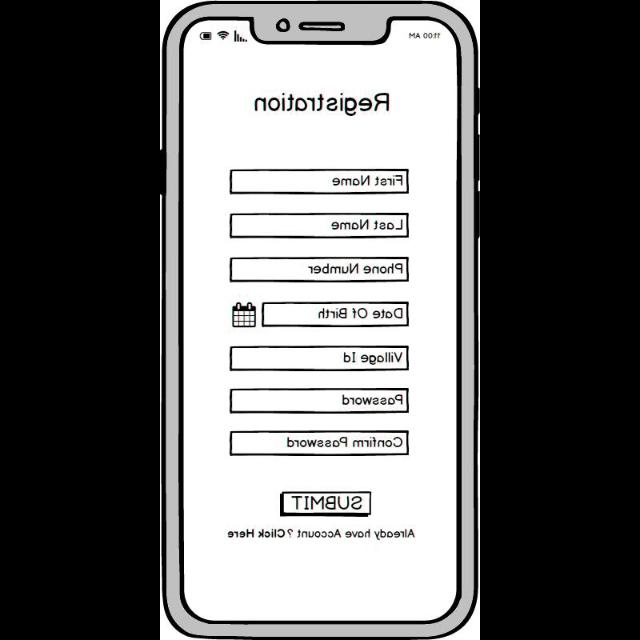icon: (232, 302, 256, 328)
input: (229, 169, 409, 195), (229, 213, 409, 239), (229, 257, 409, 283), (229, 388, 409, 414), (229, 430, 409, 456), (230, 346, 408, 372), (261, 302, 409, 328)
text: (253, 92, 389, 118)
textbutton: (227, 528, 416, 540), (279, 492, 371, 516)
